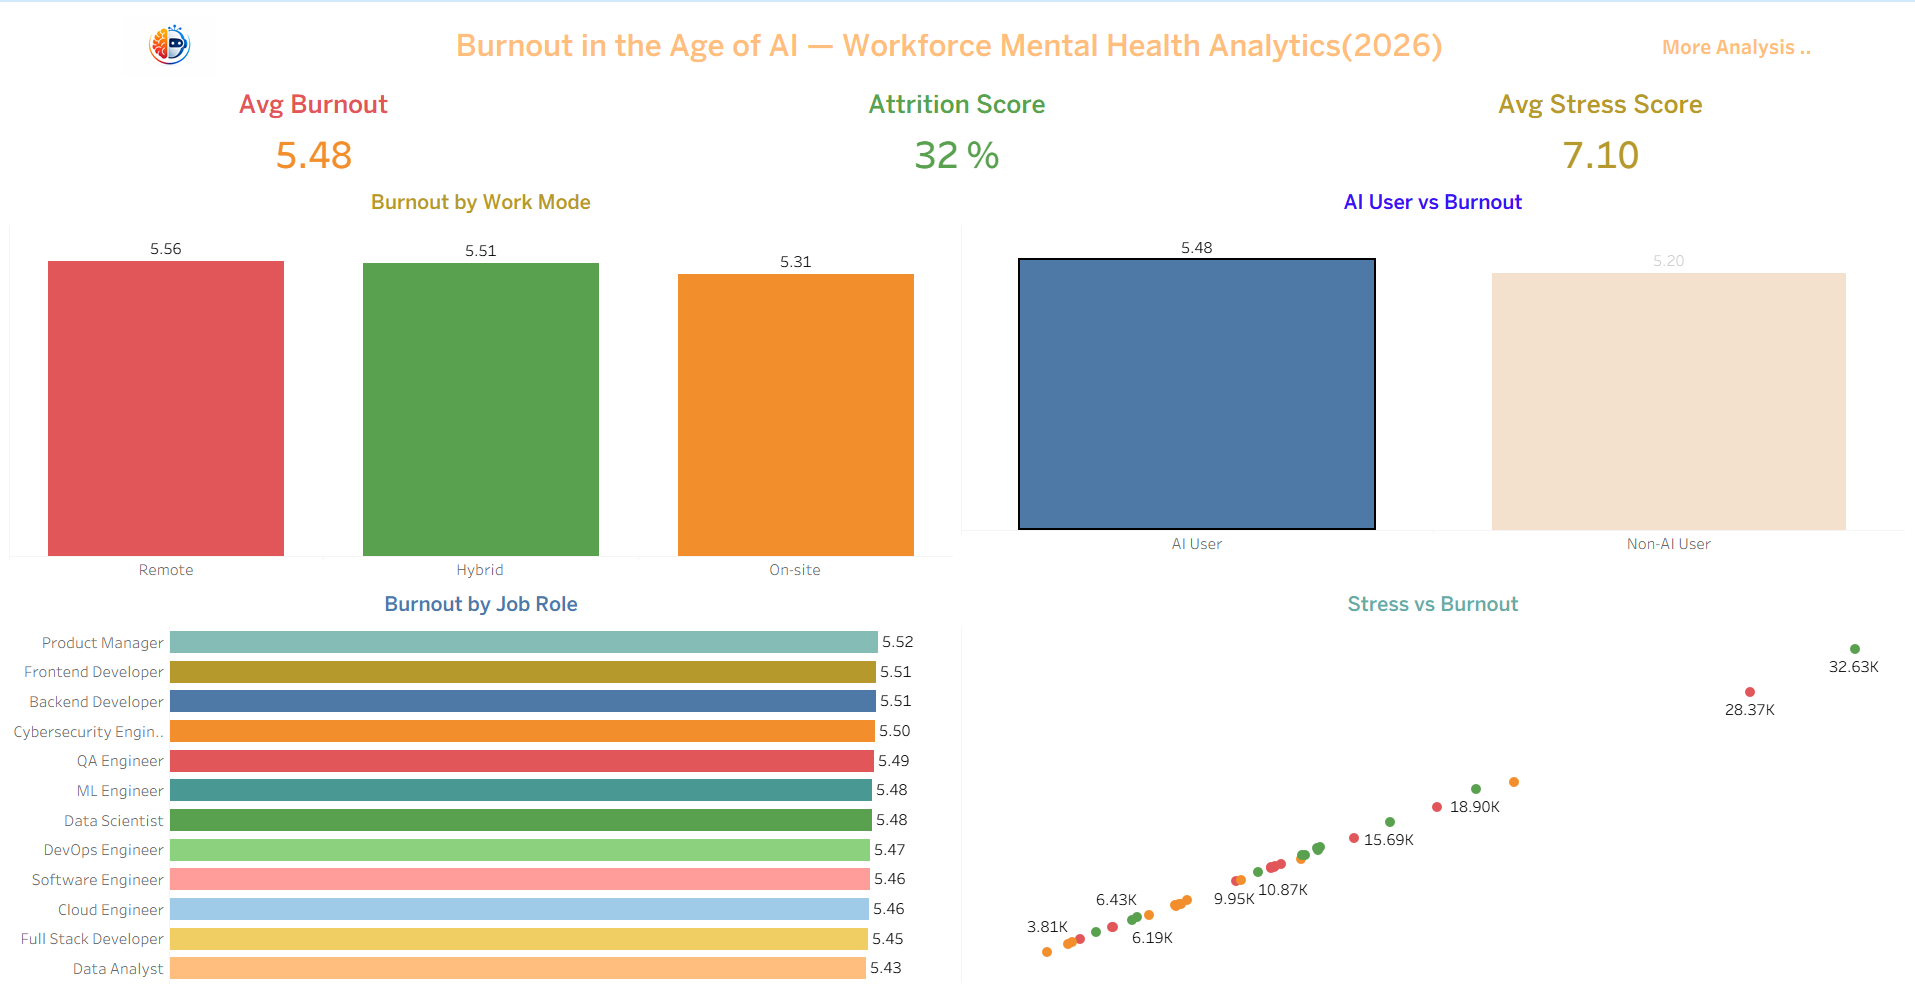

The dashboard page shown, as its layout file describes it:
{"tool":"tableau","page":{"name":"Executive Dashboard 1","canvas":[1000,1000],"units":"permille","ordinal":0},"visuals":[{"type":"image","param":"C:/Users/gptvi/Pictures/Burnout Image.png","box":[4.2,8.1,171.6,71.3]},{"type":"text","box":[175.7,8.1,641.1,71.3]},{"type":"dashboard-object","box":[816.9,8.1,179,71.3]},{"type":"worksheet","title":"KPI - Avg Burnout","mark":"Text","box":[4.2,79.4,321.4,101.6]},{"type":"worksheet","title":"KPI - Attrition","mark":"Text","box":[325.5,79.4,348.7,101.6]},{"type":"worksheet","title":"KPI - Average Stress Score","mark":"Text","box":[674.3,79.4,321.6,101.6]},{"type":"worksheet","title":"Burnout by Work Mode","mark":"Automatic","rows":["burnout_score"],"cols":["work_mode"],"box":[4.2,181,495.8,405.4]},{"type":"worksheet","title":"AI User vs Burnout","mark":"Automatic","rows":["burnout_score"],"cols":["ai_user_type"],"box":[500,181,495.8,405.4]},{"type":"worksheet","title":"Burnout by Job Role","mark":"Automatic","rows":["job_role"],"cols":["burnout_score"],"box":[4.2,586.4,495.8,405.6]},{"type":"worksheet","title":"Stress vs Burnout","mark":"Circle","rows":["burnout_score"],"cols":["stress_score"],"box":[500,586.4,495.8,405.6]}]}

Visuals, with their boxes on the dashboard's canvas, which has no fixed pixel size, in thousandths of its width and height (x1, y1, x2, y2). These are canvas units, not pixel positions in the 1915x994 screenshot, which may show the page scaled, cropped or inside an application window:
image: <region>4, 8, 176, 79</region>
text: <region>176, 8, 817, 79</region>
dashboard-object: <region>817, 8, 996, 79</region>
"KPI - Avg Burnout" worksheet (Text marks): <region>4, 79, 326, 181</region>
"KPI - Attrition" worksheet (Text marks): <region>326, 79, 674, 181</region>
"KPI - Average Stress Score" worksheet (Text marks): <region>674, 79, 996, 181</region>
"Burnout by Work Mode" worksheet: <region>4, 181, 500, 586</region>
"AI User vs Burnout" worksheet: <region>500, 181, 996, 586</region>
"Burnout by Job Role" worksheet: <region>4, 586, 500, 992</region>
"Stress vs Burnout" worksheet (Circle marks): <region>500, 586, 996, 992</region>
